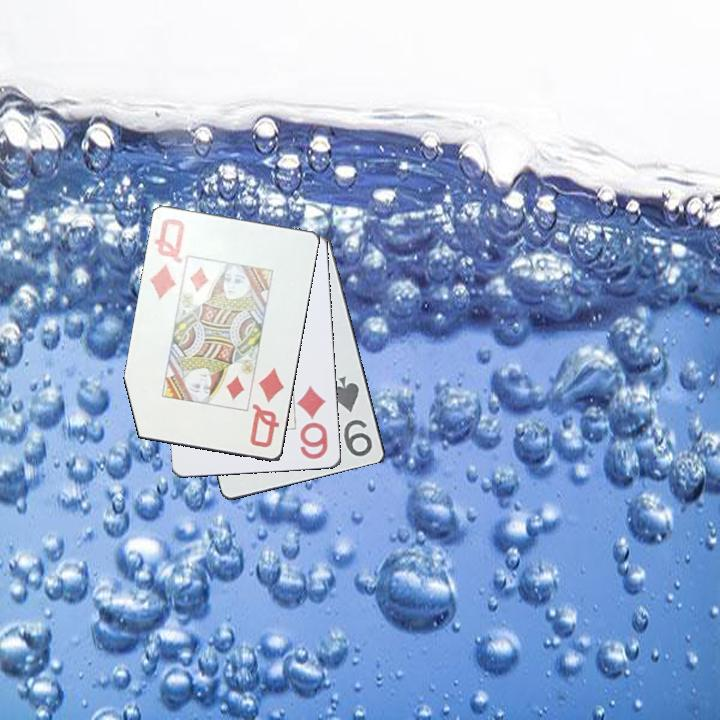6d: (295, 382, 331, 463)
9s: (329, 373, 376, 460)
Qd: (146, 215, 188, 302), (247, 365, 287, 451)
